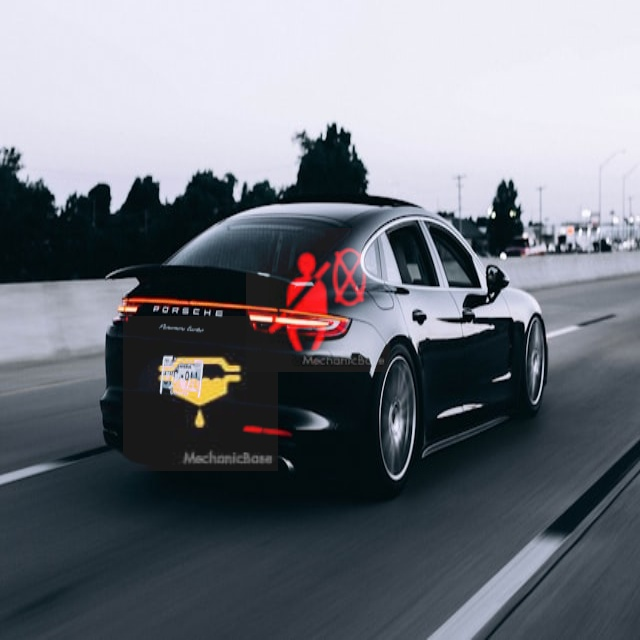symbol: (123, 316, 278, 471), (246, 228, 390, 372)
